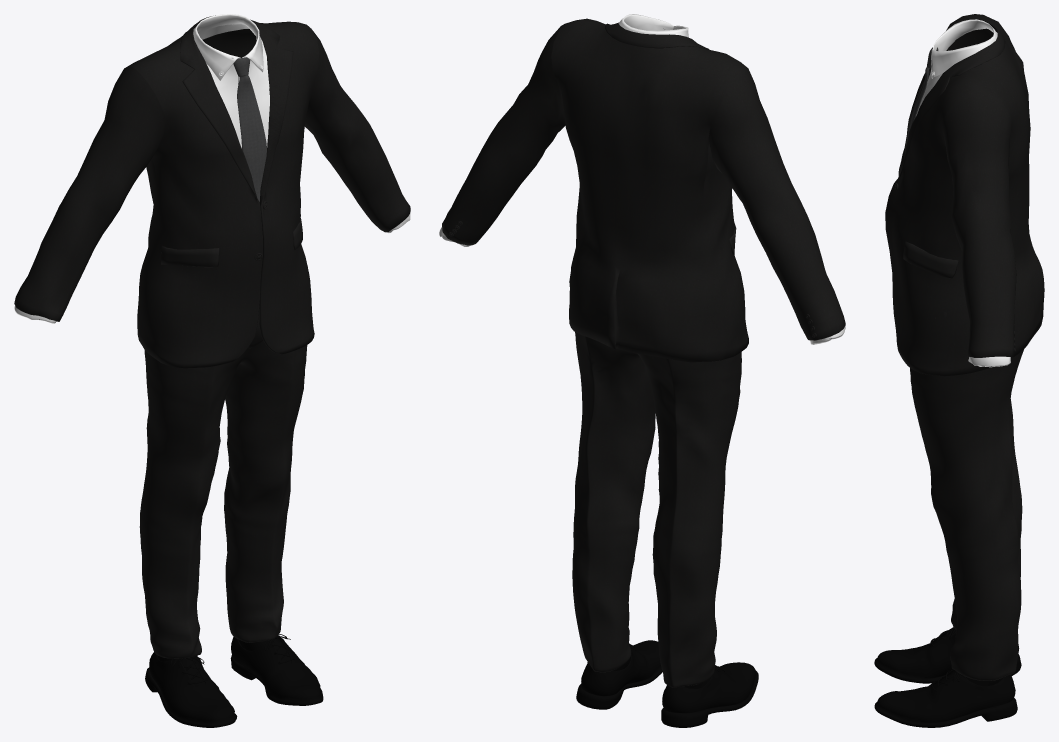
File: outfit_5.fbx
3 views of the same model, side by side, from view 1: azimuth 30°, elevation 25°; view 2: azimuth 150°, elevation 25°; view 3: azimuth 270°, elevation 25° (orthographic). The views are drawn at different scales.
Parts seen in each view (by area): view 1: outfit_5; view 2: outfit_5; view 3: outfit_5.
Part boxes in pixels (x1,y1,x2,y2): outfit_5: [14, 14, 410, 727]; outfit_5: [439, 14, 845, 727]; outfit_5: [874, 14, 1044, 727].
Size of the model in its own units: 97.04 by 159 by 36.73.
